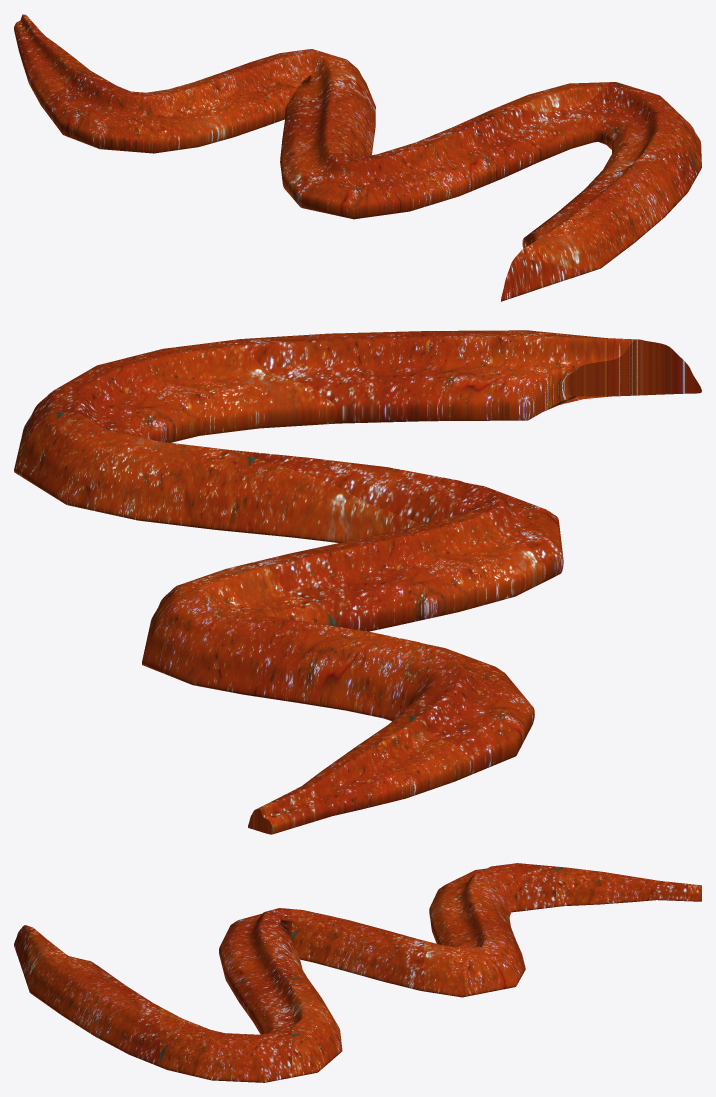
The model's file is sauce_drawn.FBX.
The picture shows the model from 3 angles, top to bottom: view 1: azimuth 30°, elevation 25°; view 2: azimuth 150°, elevation 25°; view 3: azimuth 270°, elevation 25°; orthographic projection. The views are drawn at different scales.
Parts seen in each view (by area): view 1: sauce; view 2: sauce; view 3: sauce.
Part boxes in pixels (x1,y1,x2,y2): sauce: (14, 14, 701, 301); sauce: (14, 330, 701, 834); sauce: (14, 863, 701, 1082).
Bounding box in the file's own units: 36.79 × 2.87 × 52.1.
